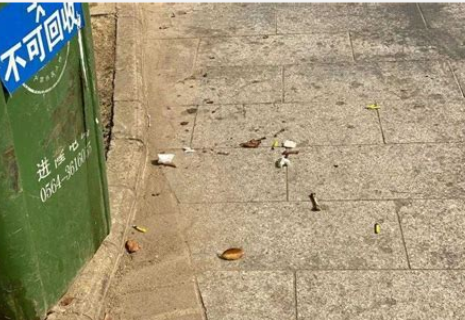garbage: (235, 137, 296, 167), (122, 219, 153, 255), (300, 188, 329, 219), (152, 149, 185, 171), (217, 246, 244, 267), (368, 101, 387, 118), (367, 222, 382, 237)
